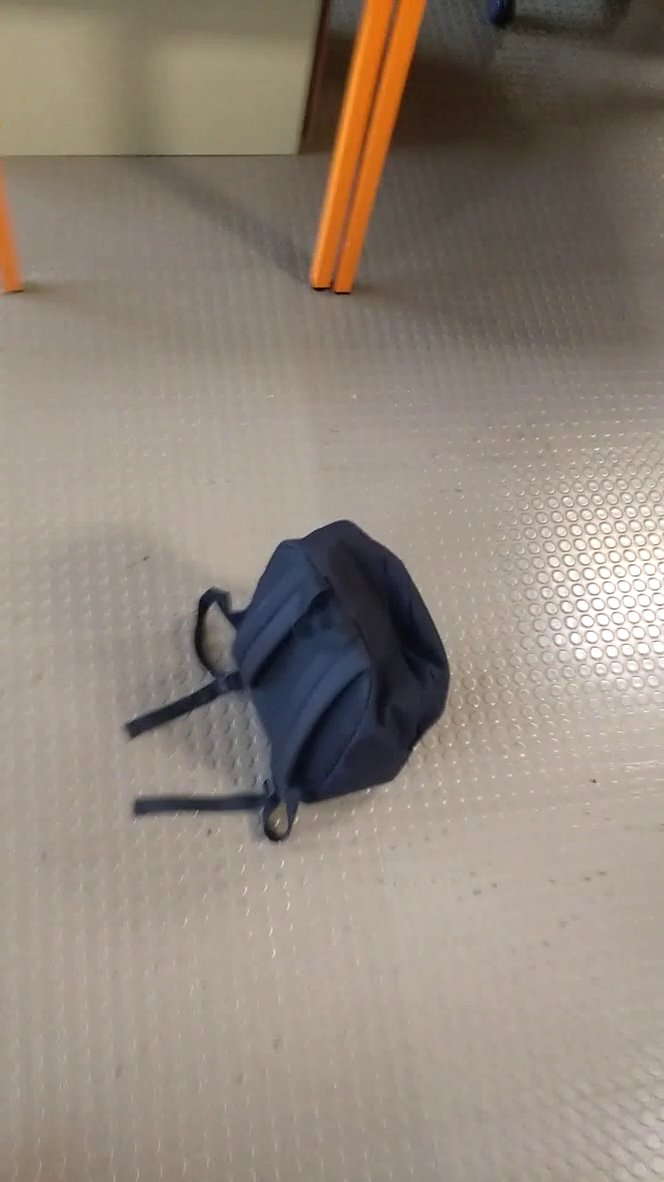bag: (113, 506, 458, 853)
